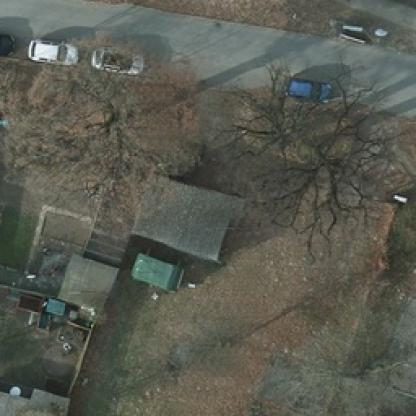car: (26, 36, 80, 68), (89, 44, 143, 75), (283, 76, 332, 106)
